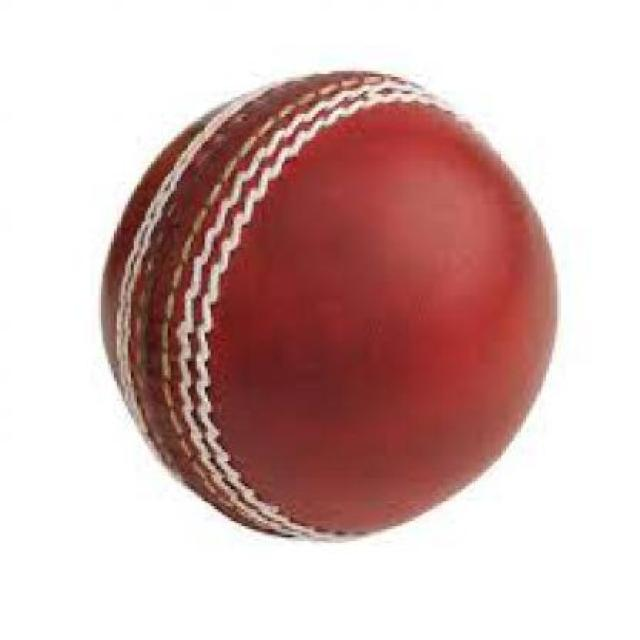ball: (54, 34, 598, 564)
